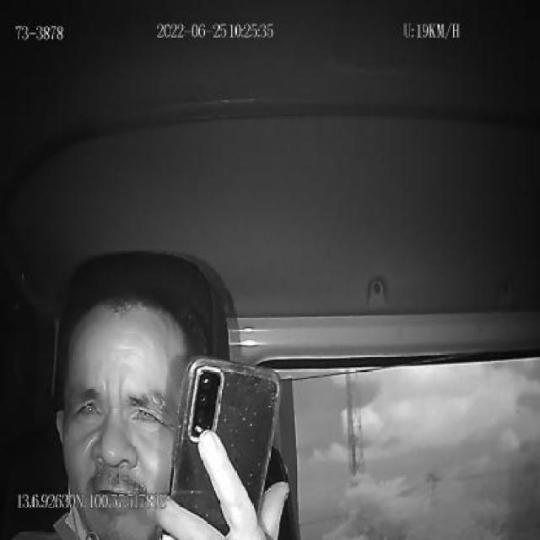phone: (161, 355, 282, 540)
